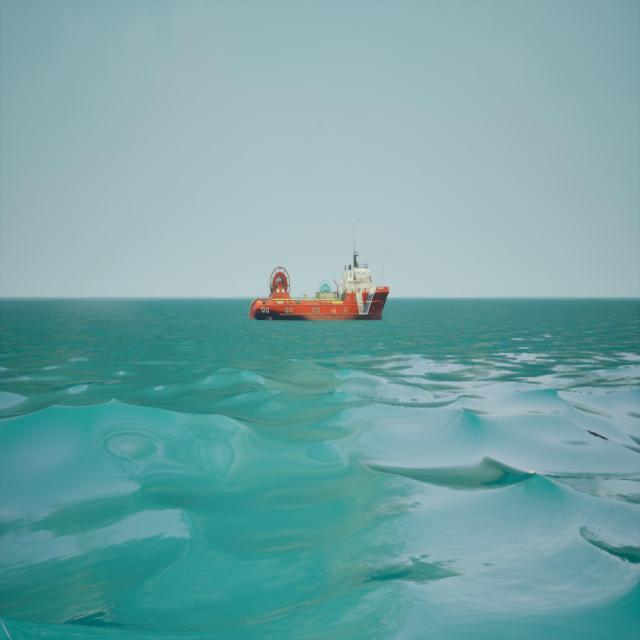tug boat: (249, 224, 392, 324)
